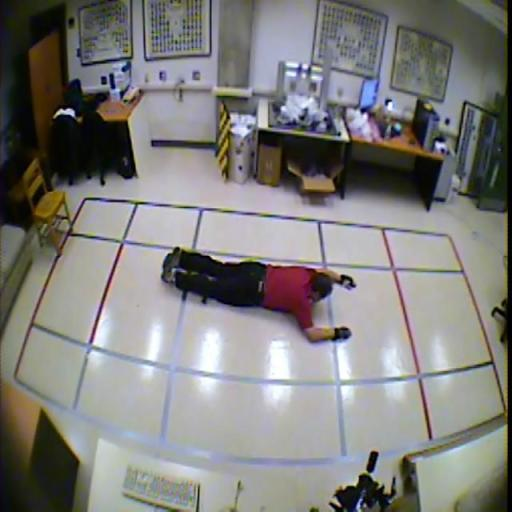Fall: (160, 246, 357, 342)
